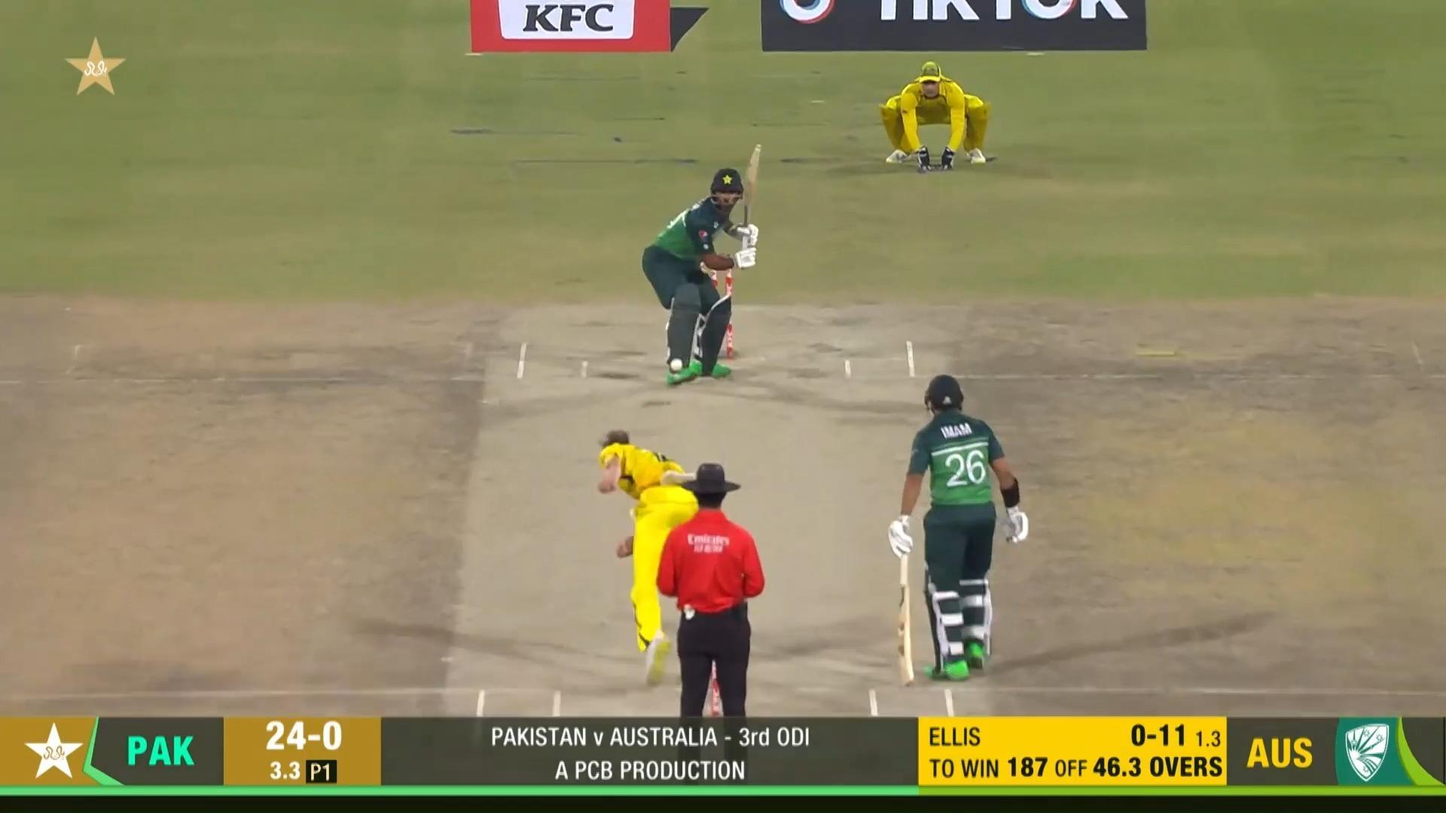BM 1: (642, 144, 761, 386)
BO: (595, 427, 717, 690)
